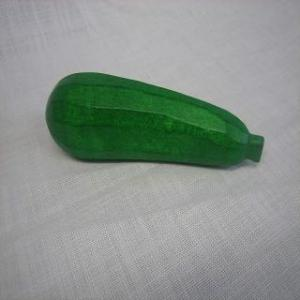zucchini: (40, 57, 286, 171)
